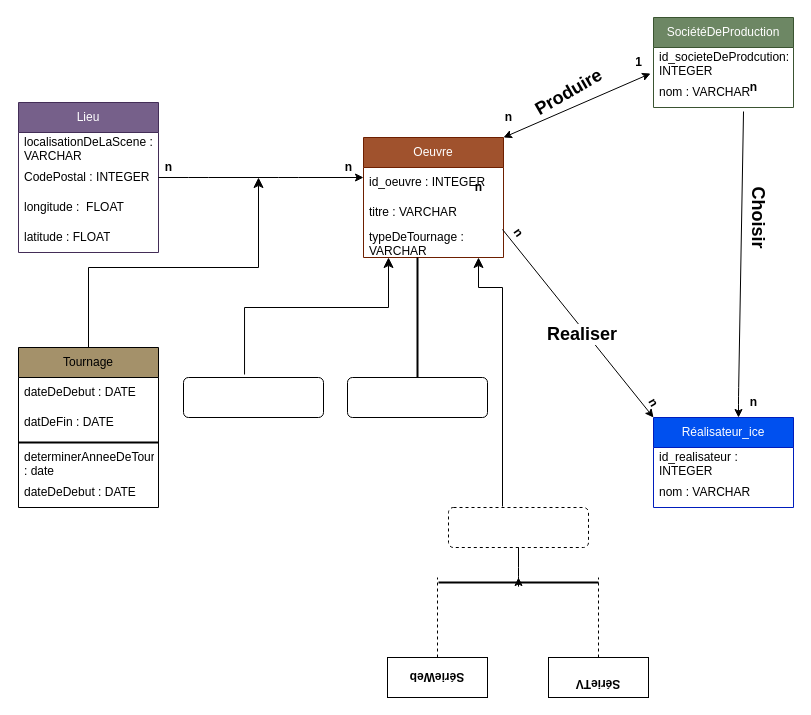
Image size: 811x715. Some labels were removed from this diagram. The shapes that lost their labels are listed below. From the top down, each one's centre as x and y in pixels, then its label:
At [253,397]: "TéléFilm".
At [417,397]: "LongMetrage".
At [518,527]: "Série".
